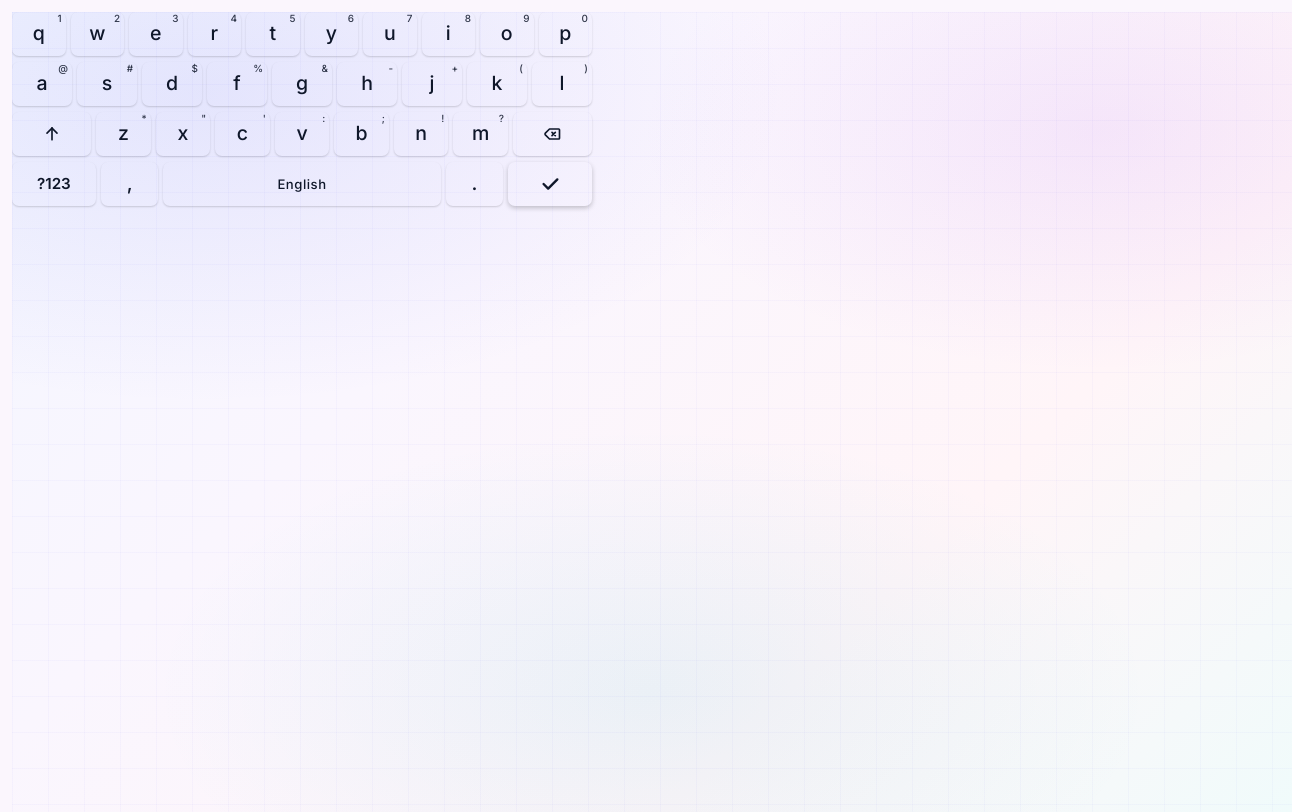
Test: GboardKeyboard component › switches between letters, symbols, and extended symbols modes
This screenshot has width=1292, height=812.
Press the mouse on the button named "Switch to numbers and symbols" at (54, 184), box [12,162,96,206]
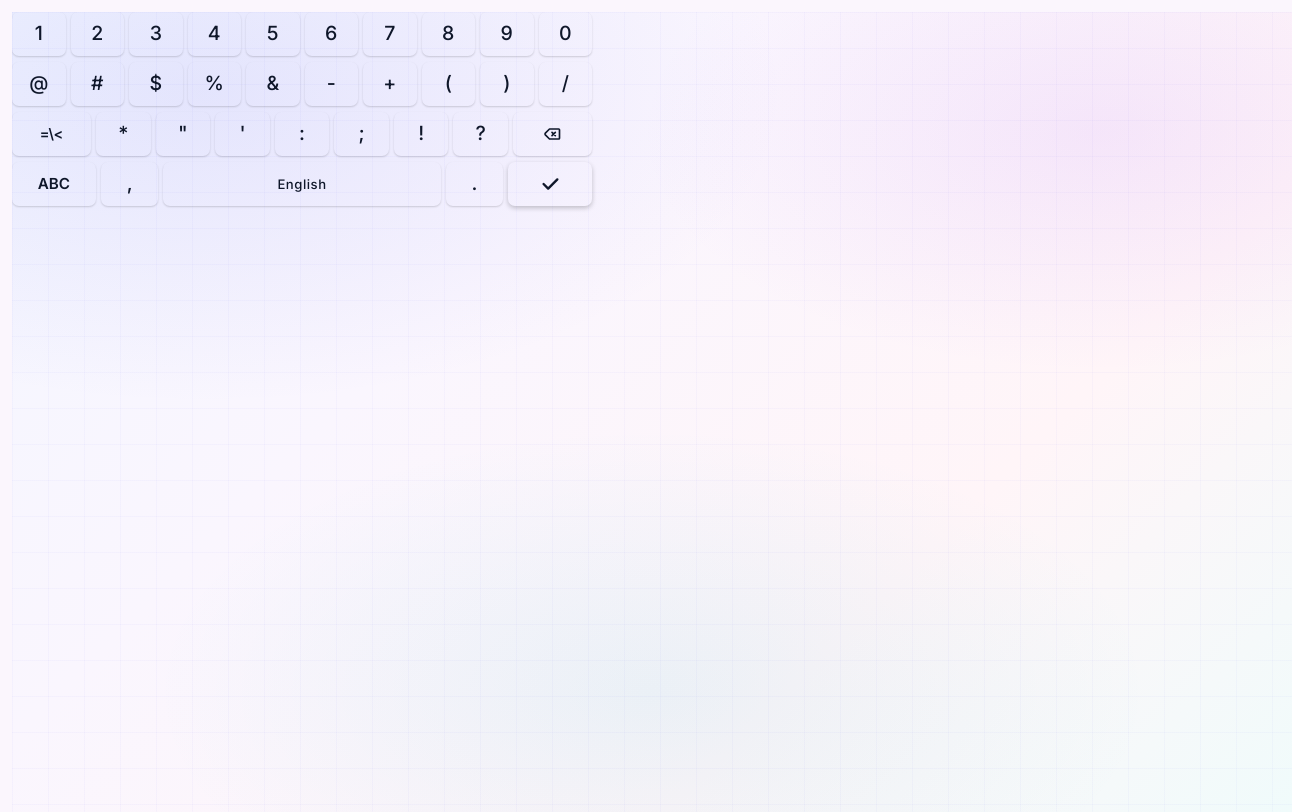
Press the mouse on the button with test id "gboard-key-1" at (39, 34), box [12,12,66,56]
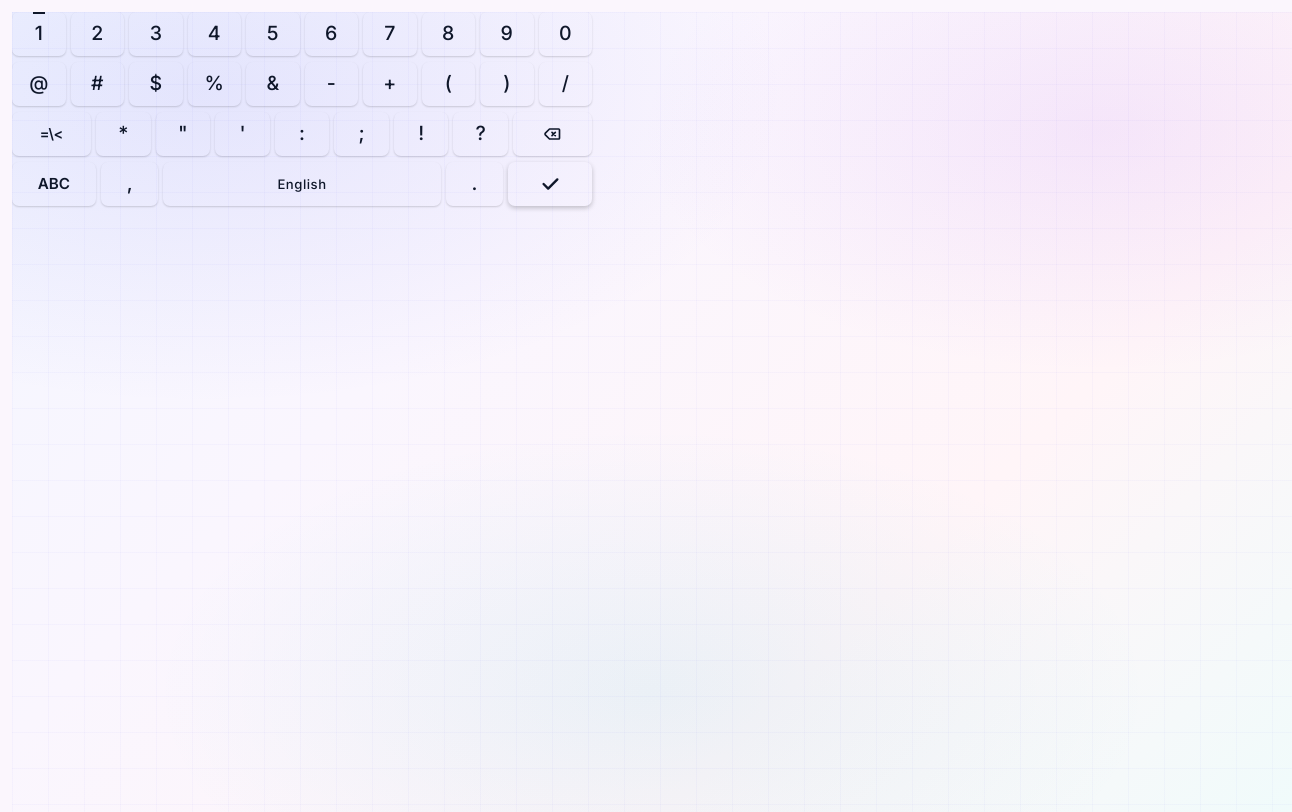
Press the mouse on the button named "More symbols" at (52, 134), box [12,112,91,156]
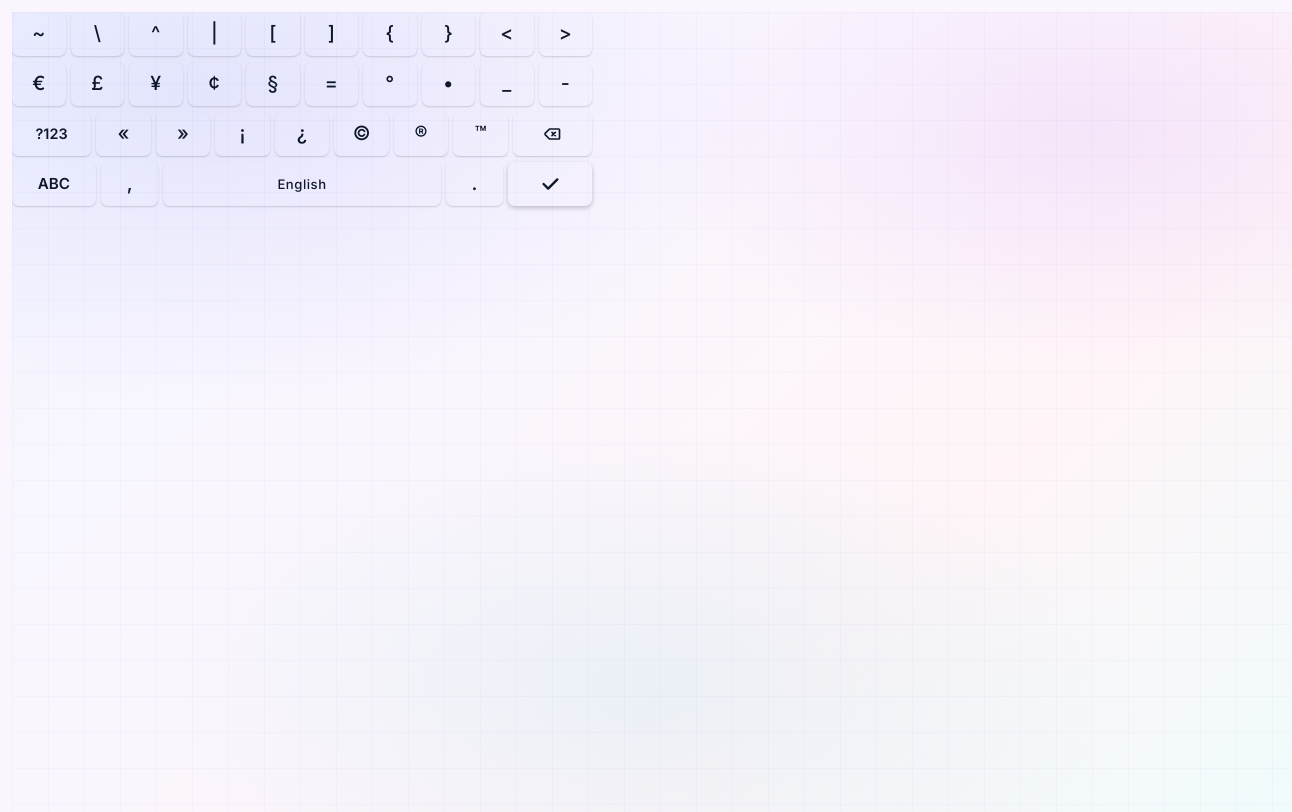
Check: the button with test id "gboard-key-~" is shown
Press the mouse on the button with test id "gboard-key-~" at (39, 34), box [12,12,66,56]
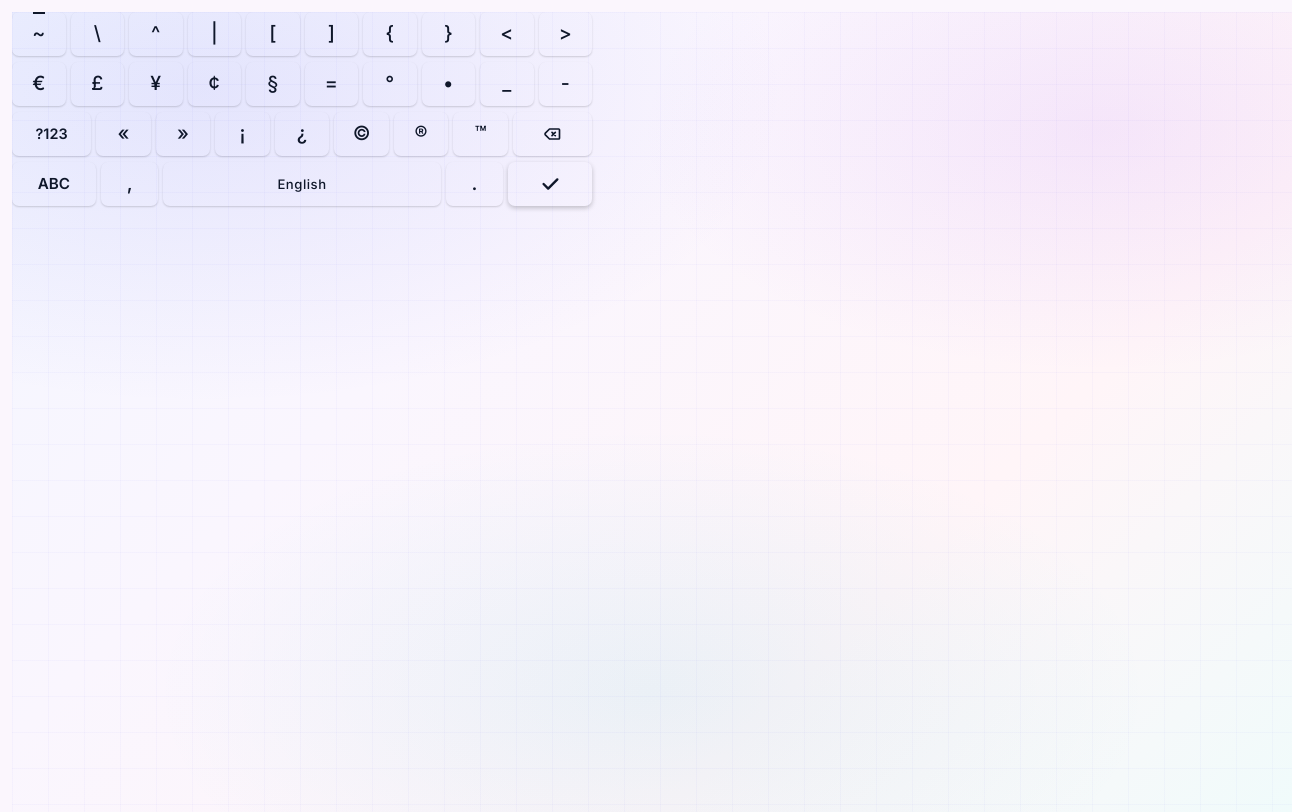
Press the mouse on the button with aria-label "Switch to letters" at (54, 184), box [12,162,96,206]
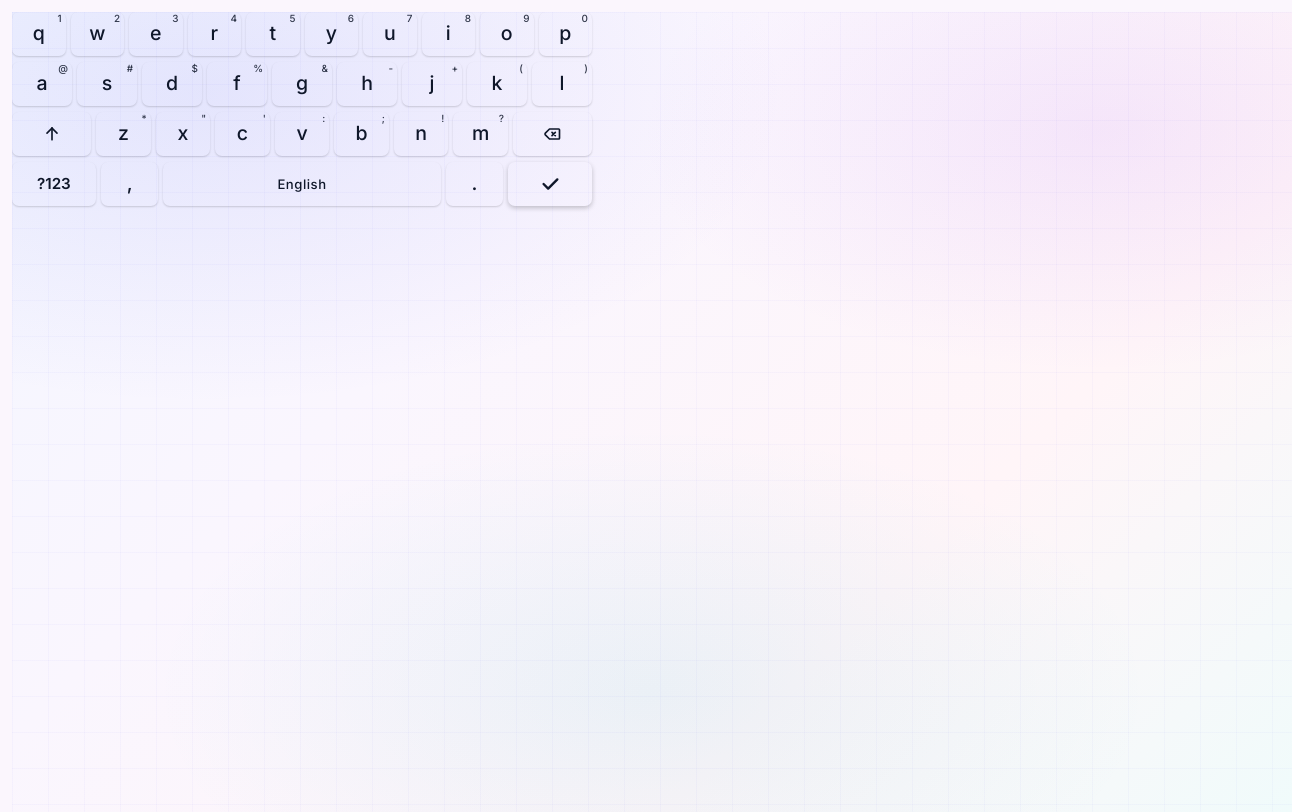
Check: the button with test id "gboard-key-q" is shown, box [12,12,66,56]
